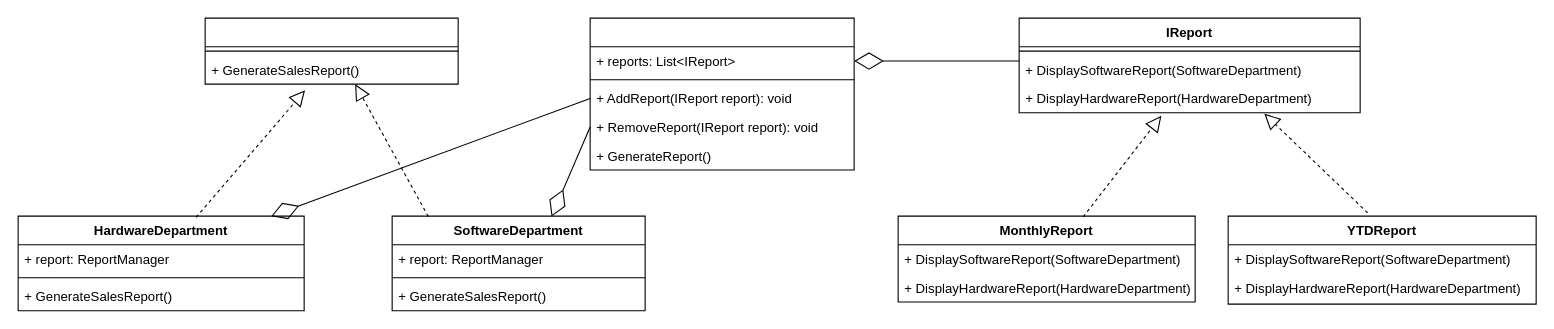
Some shapes in this 1554 by 329 pixel diagram are drawn without their labels. The box of each missing label's shape, as (x1, y1, x2, y2) in pixels:
IDepartment: (204, 17, 458, 84)
ReportManager: (589, 17, 854, 170)
